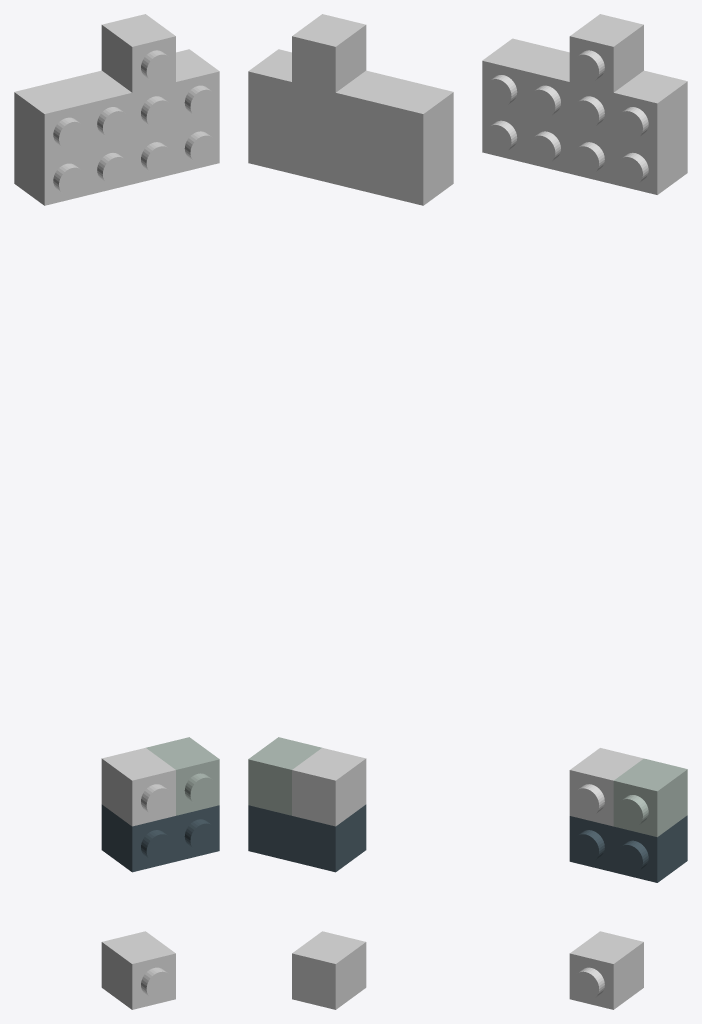
File: current.glb
3 renders of one model, left to right at view 1: azimuth 30°, elevation 25°; view 2: azimuth 150°, elevation 25°; view 3: azimuth 330°, elevation 25°, orthographic.
Parts seen in each view (by area): view 1: world; view 2: world; view 3: world.
Boxes of the visible parts, <box> form: world: <box>14,14,219,1009</box>; world: <box>248,14,453,1009</box>; world: <box>482,14,687,1009</box>.
Bounding box in the file's own units: 32 × 168 × 11.4.
